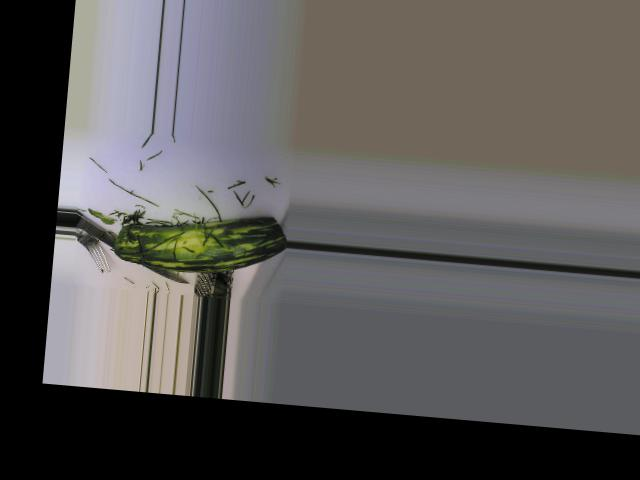cucumber: (112, 203, 288, 279)
